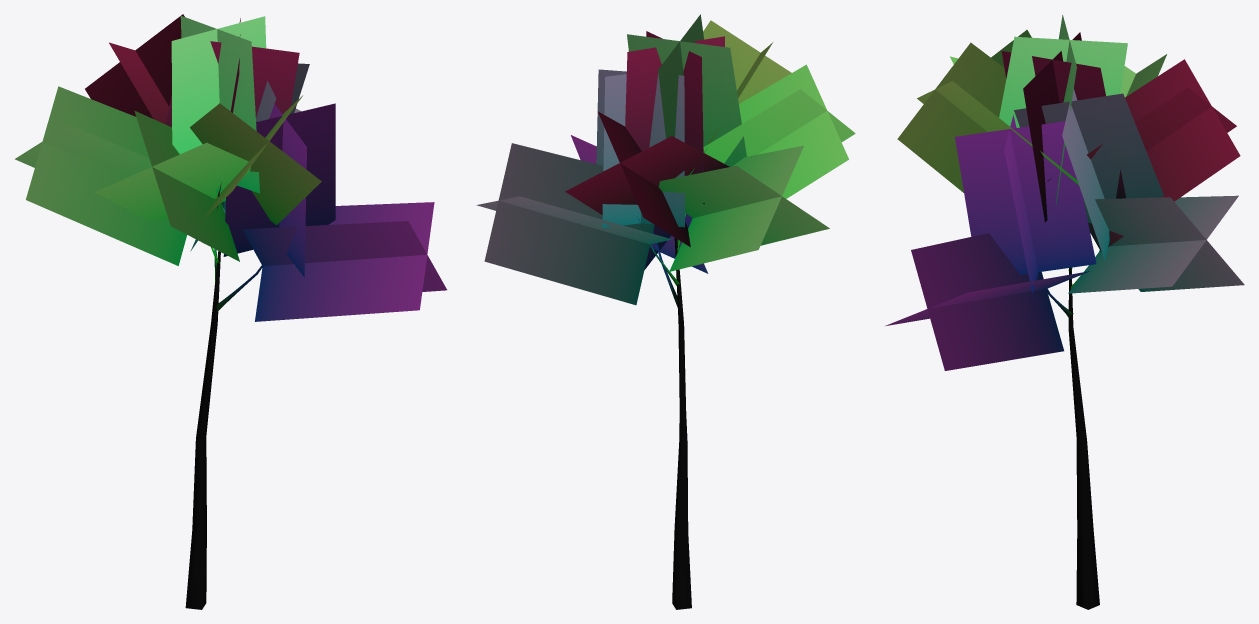
The model's file is SuperTree_28.fbx.
3 renders of one model, left to right at view 1: azimuth 30°, elevation 25°; view 2: azimuth 150°, elevation 25°; view 3: azimuth 270°, elevation 25°, orthographic. The views are drawn at different scales.
Parts seen in each view (by area): view 1: SuperTree_28; view 2: SuperTree_28; view 3: SuperTree_28.
Boxes of the visible parts, left/top/right/bottom form: SuperTree_28: left=15, top=14, right=446, bottom=609; SuperTree_28: left=476, top=14, right=855, bottom=609; SuperTree_28: left=885, top=15, right=1244, bottom=609.
Bounding box in the file's own units: 575 × 945 × 536.
